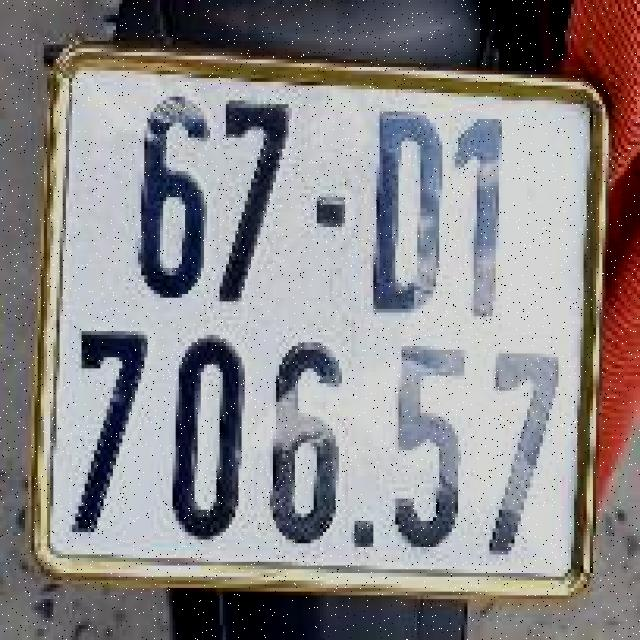0: (163, 311, 257, 556)
1: (452, 104, 508, 328)
5: (382, 329, 470, 564)
6: (133, 82, 212, 312), (267, 318, 342, 542)
7: (64, 311, 149, 545), (480, 344, 568, 568), (218, 85, 300, 309)
D: (353, 98, 447, 326)
